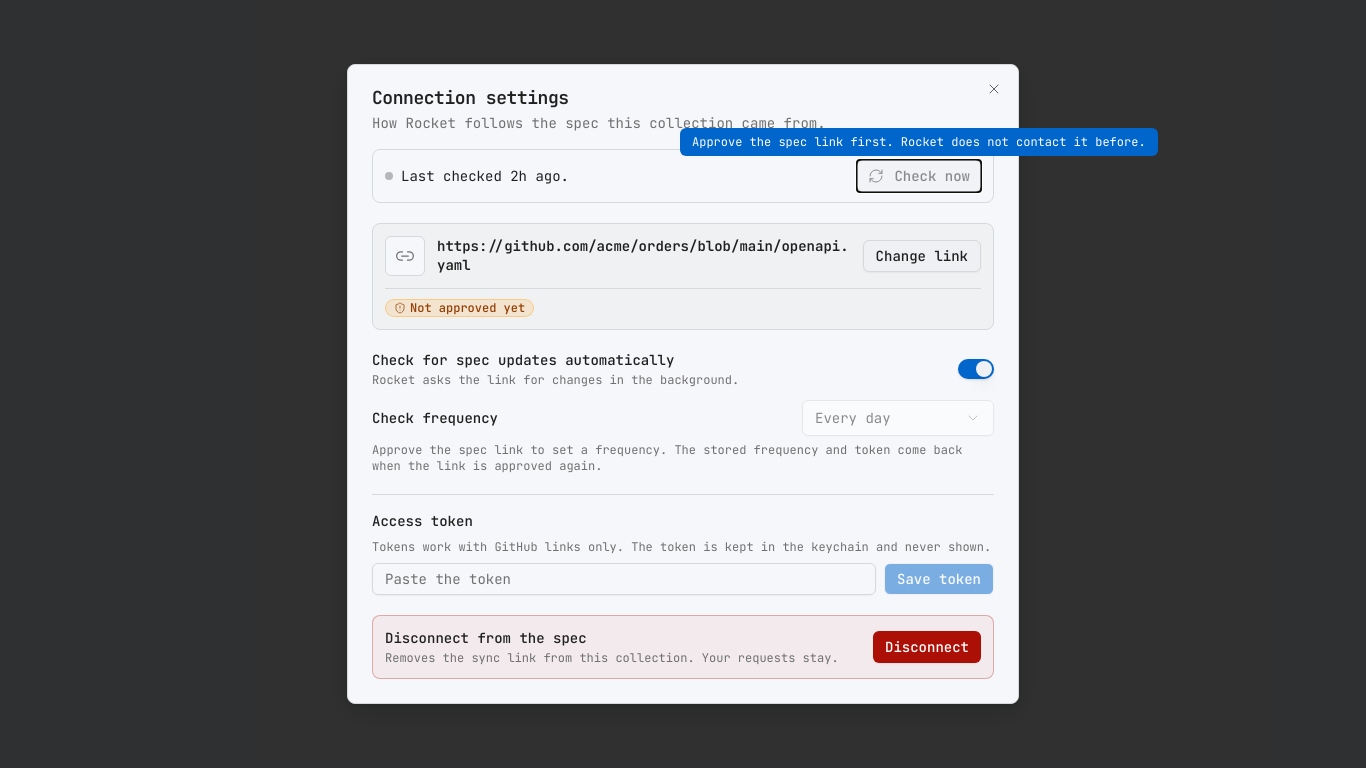
OpenApiSyncConnectionDialog › shows the consent sentence when saving without approval
Type "tok" into the password field labelled "Access token" at (624, 579), box [372,563,876,595]
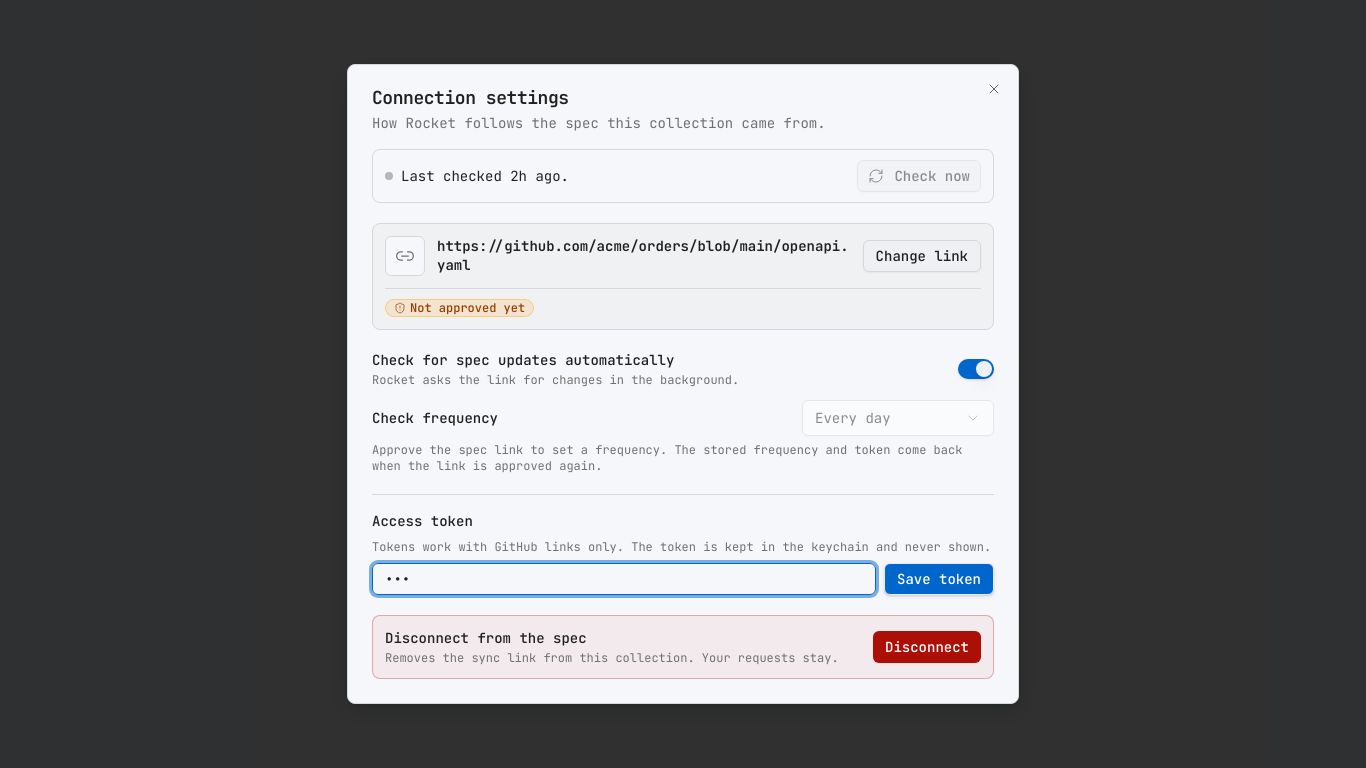
Click the button "Save token" at (939, 579), box [884,563,994,595]
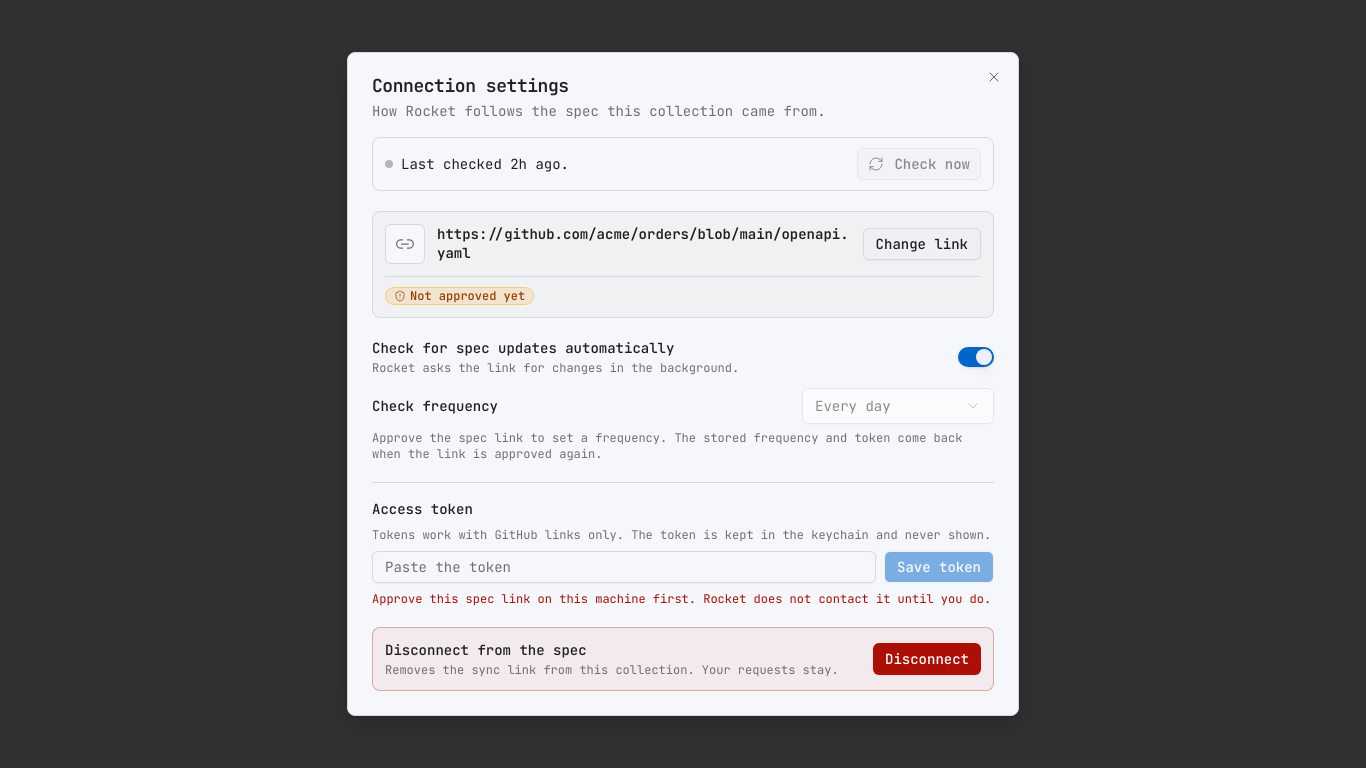
expect the text "Approve this spec link on this machine first" is shown: met, box [372,591,991,607]
expect the password field labelled "Access token" is empty: met, box [372,551,876,583]
